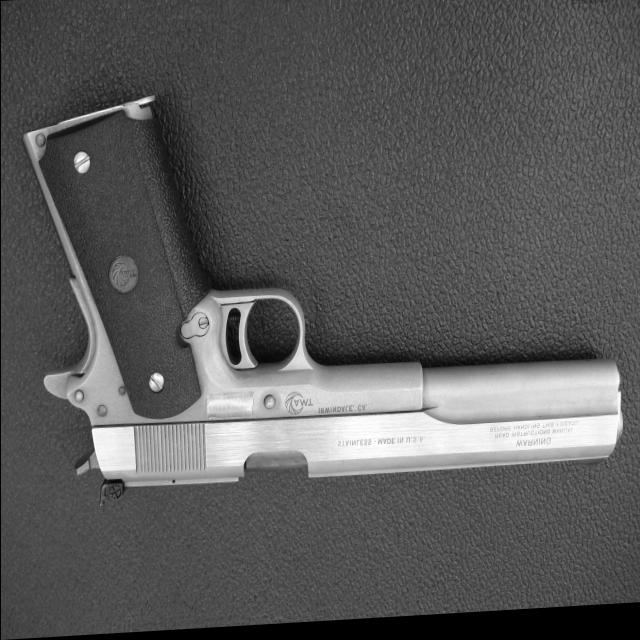handgun: (26, 75, 622, 518)
